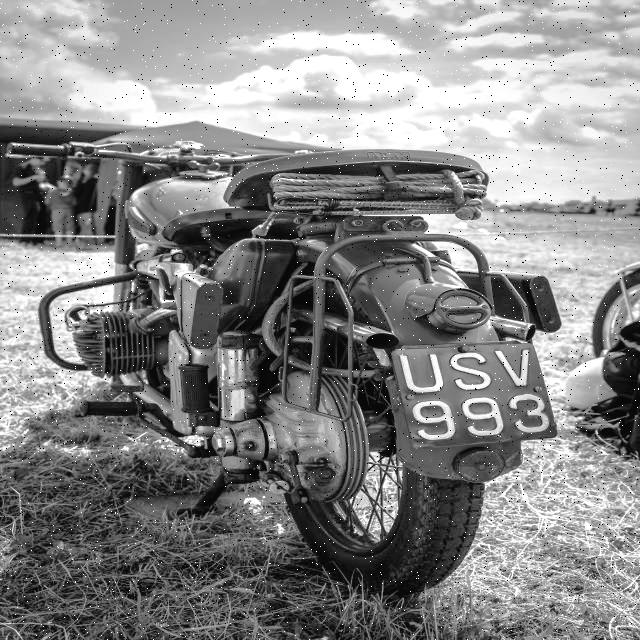Bike: (52, 145, 560, 587)
